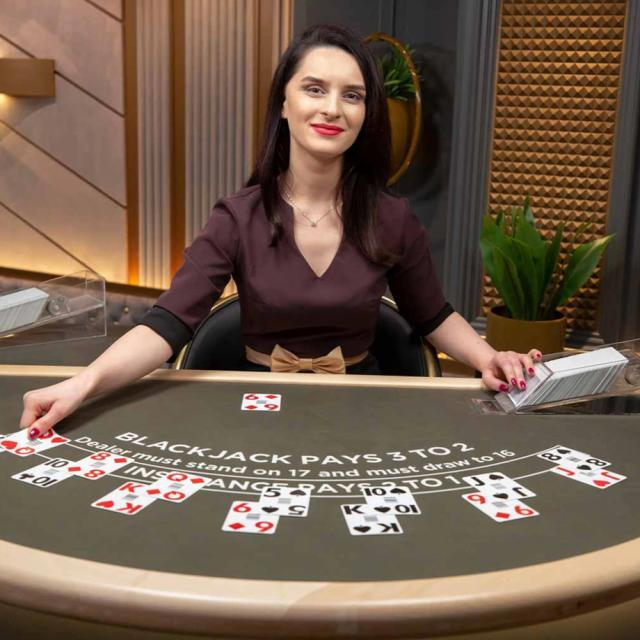Card-10: (12, 457, 75, 487), (363, 487, 421, 513)
Card-5: (256, 486, 311, 517)
Card-6: (222, 500, 280, 533), (240, 393, 280, 411)
Card-8: (64, 451, 134, 480), (536, 446, 611, 473)
Card-9: (462, 492, 539, 522)
Card-J: (462, 472, 536, 502), (550, 464, 627, 489)
Card-K: (90, 481, 157, 515), (341, 504, 403, 535)
Card-Q: (141, 470, 212, 503), (0, 427, 71, 457)
